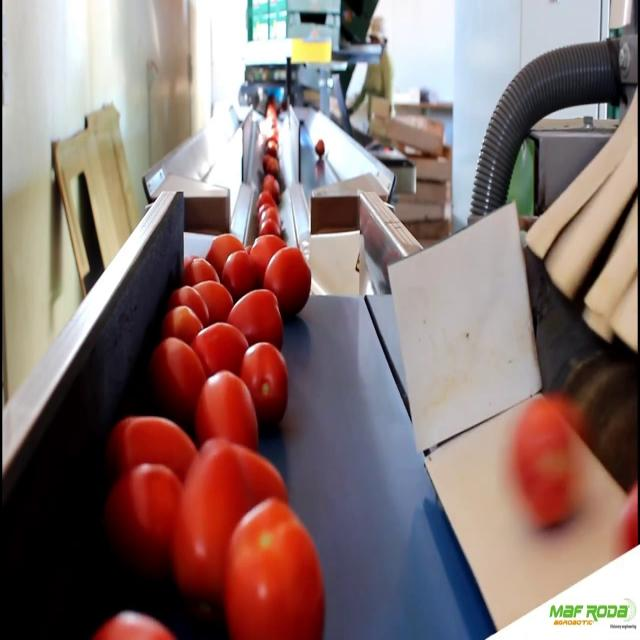Tomato: (220, 510, 348, 640), (174, 442, 252, 596), (507, 394, 587, 537), (108, 466, 188, 562), (119, 398, 195, 494), (200, 370, 260, 452), (240, 341, 298, 420), (158, 329, 204, 417), (227, 287, 284, 353), (264, 247, 312, 313), (100, 604, 184, 640), (198, 318, 248, 371), (611, 485, 640, 556), (204, 234, 246, 270), (222, 255, 254, 298), (193, 280, 231, 314), (160, 312, 200, 341), (169, 288, 210, 316), (254, 232, 276, 272), (260, 213, 280, 240), (266, 153, 280, 177), (257, 189, 274, 206), (316, 138, 325, 158)
